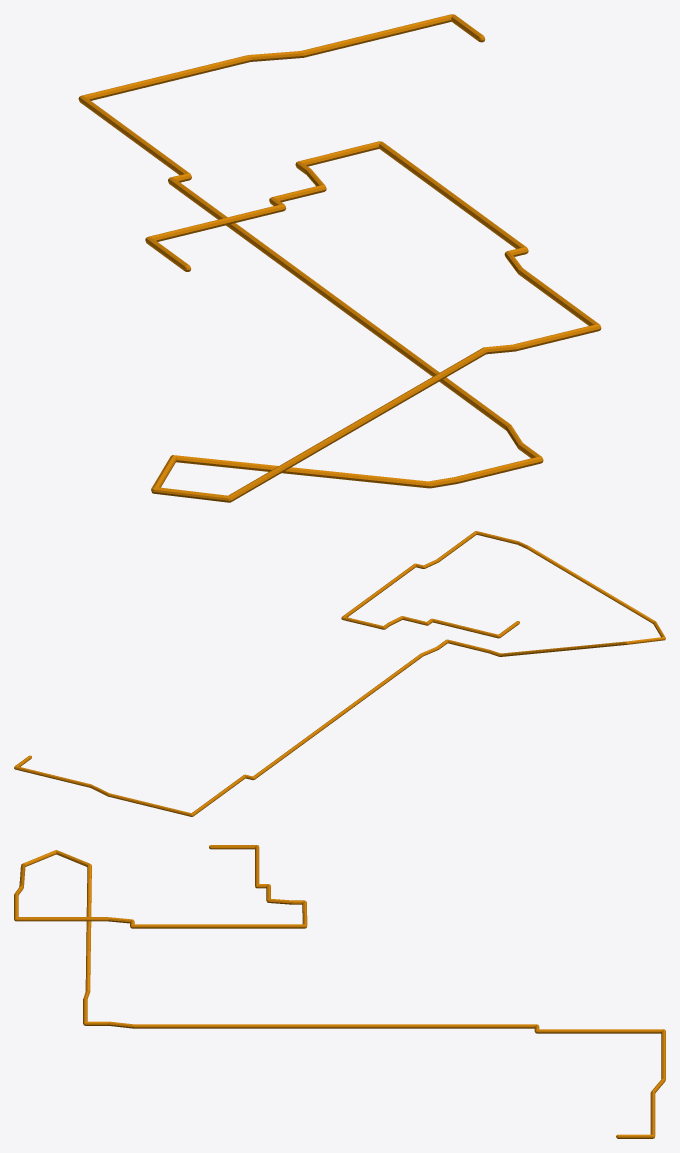
The picture shows the model from 3 angles, top to bottom: view 1: azimuth 30°, elevation 25°; view 2: azimuth 150°, elevation 25°; view 3: azimuth 270°, elevation 25°; orthographic projection. The views are drawn at different scales.
Bounding box in the file's own units: 2407 × 520 × 2831.
